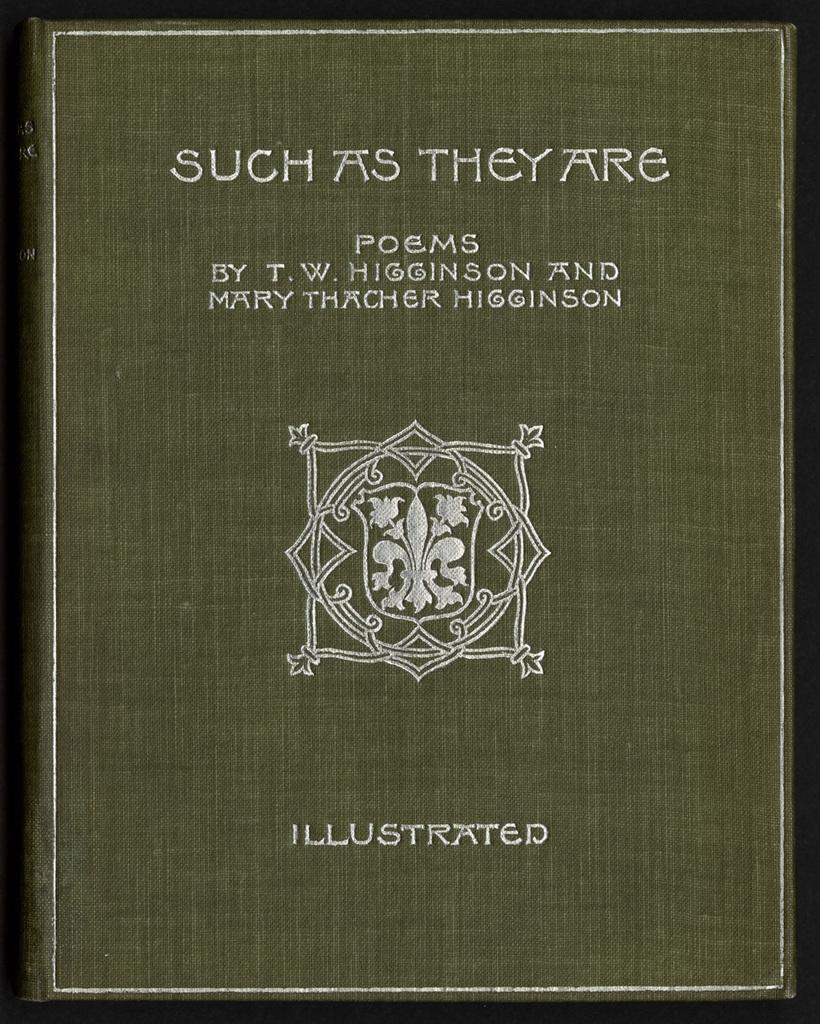book: (18, 14, 794, 1000)
